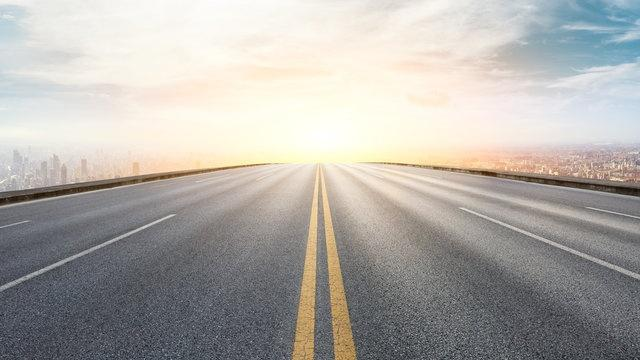road: (322, 163, 639, 358), (0, 163, 315, 358)
